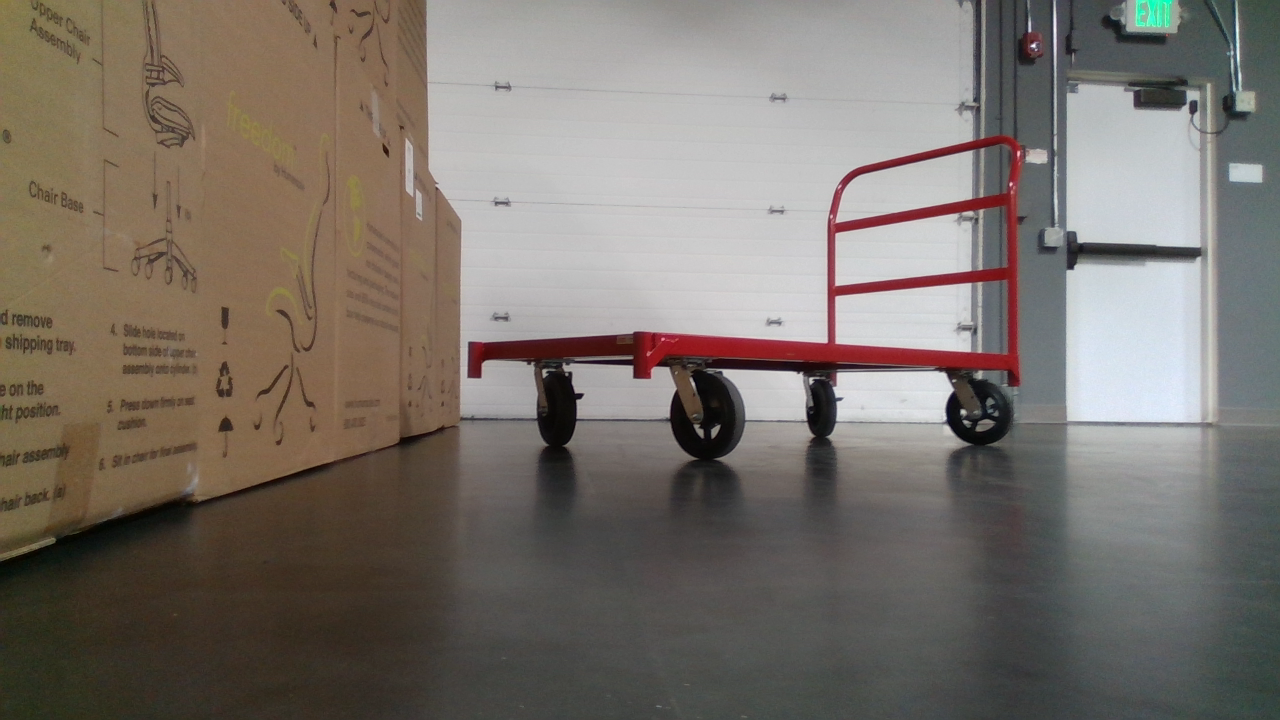Dolly: (465, 134, 1021, 459)
Wheel: (669, 364, 746, 459), (945, 367, 1012, 441), (530, 361, 583, 449), (801, 369, 843, 439)
